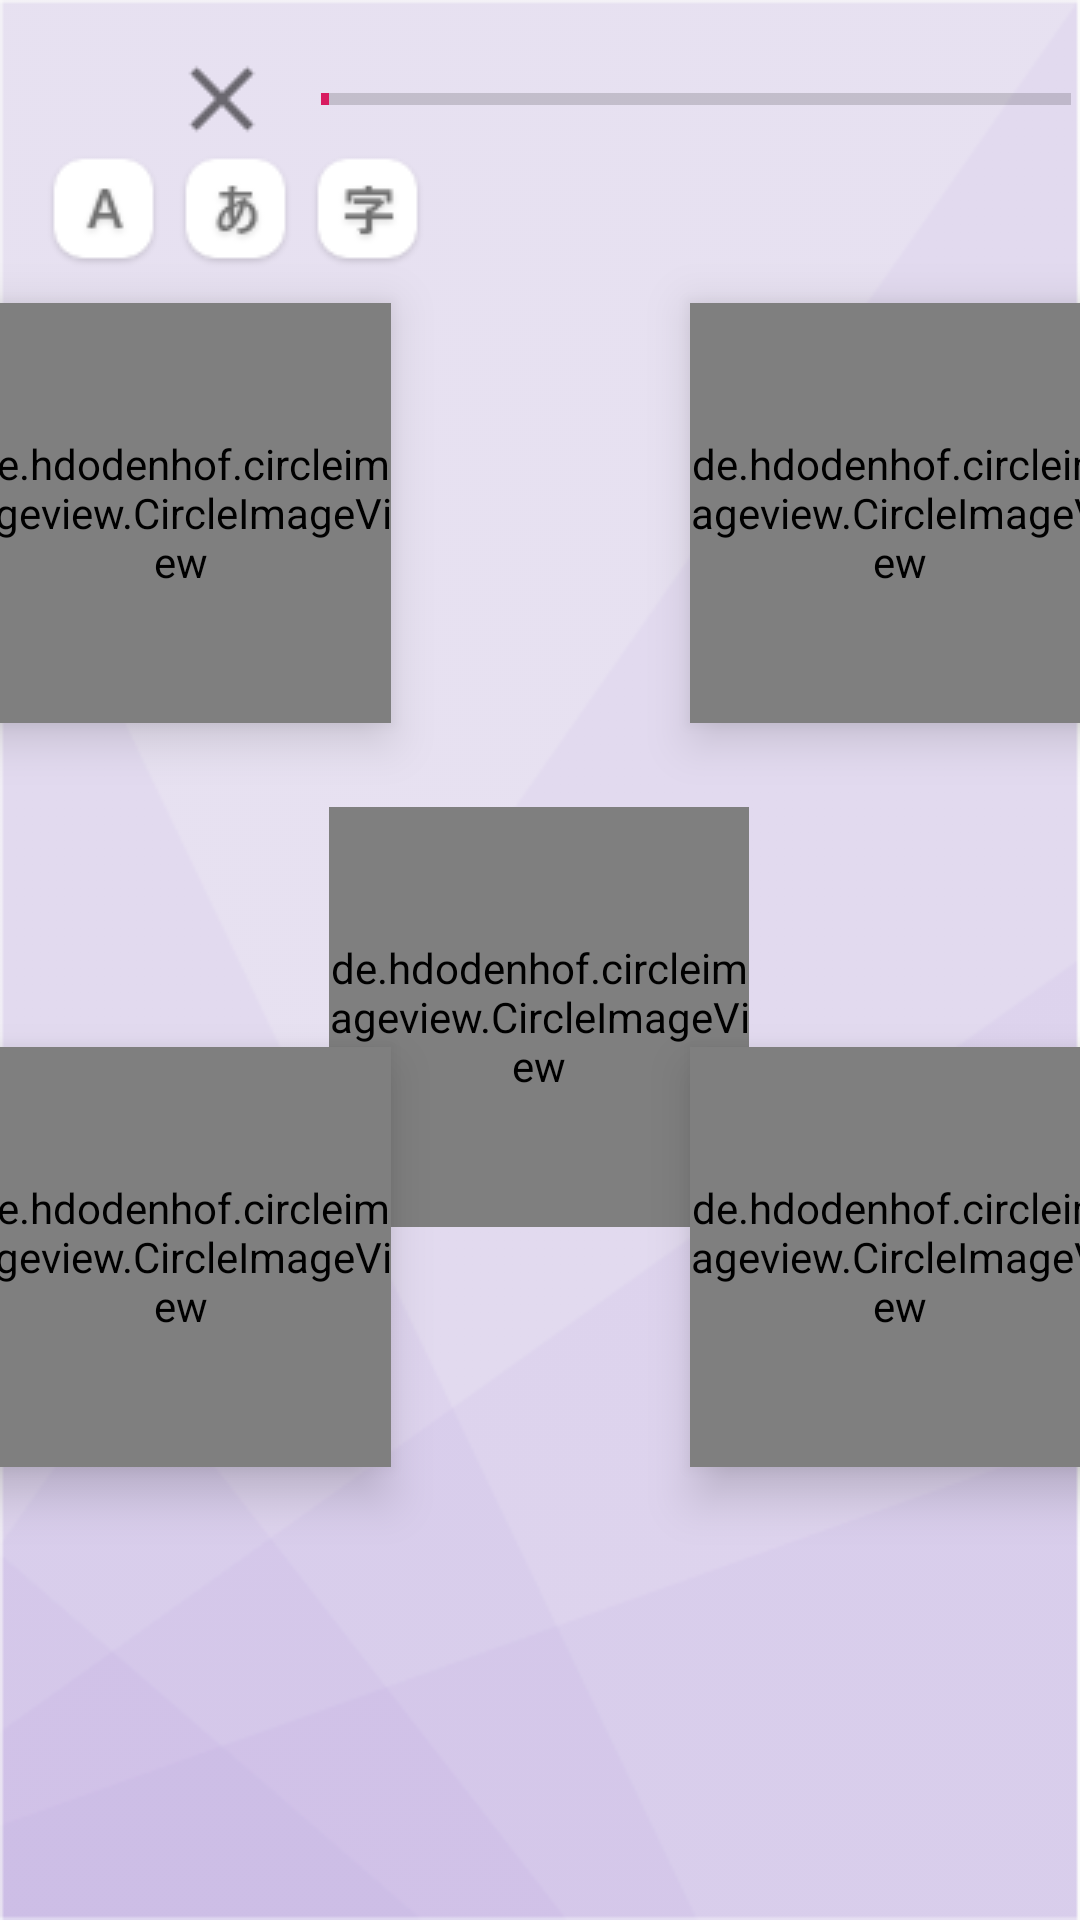

Named icons in this screenshot (1080 × 1920) and their centers, point (x, y):
character kana fragment card: point (235, 210)
character kanji fragment card: point (367, 210)
character romaji fragment card: point (103, 210)
close fragment card: point (222, 99)
